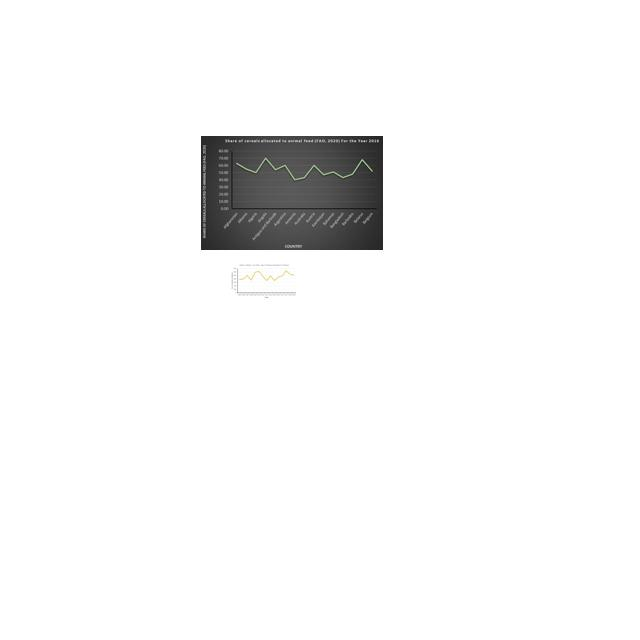Graph: (201, 136, 383, 250), (230, 263, 297, 299)
